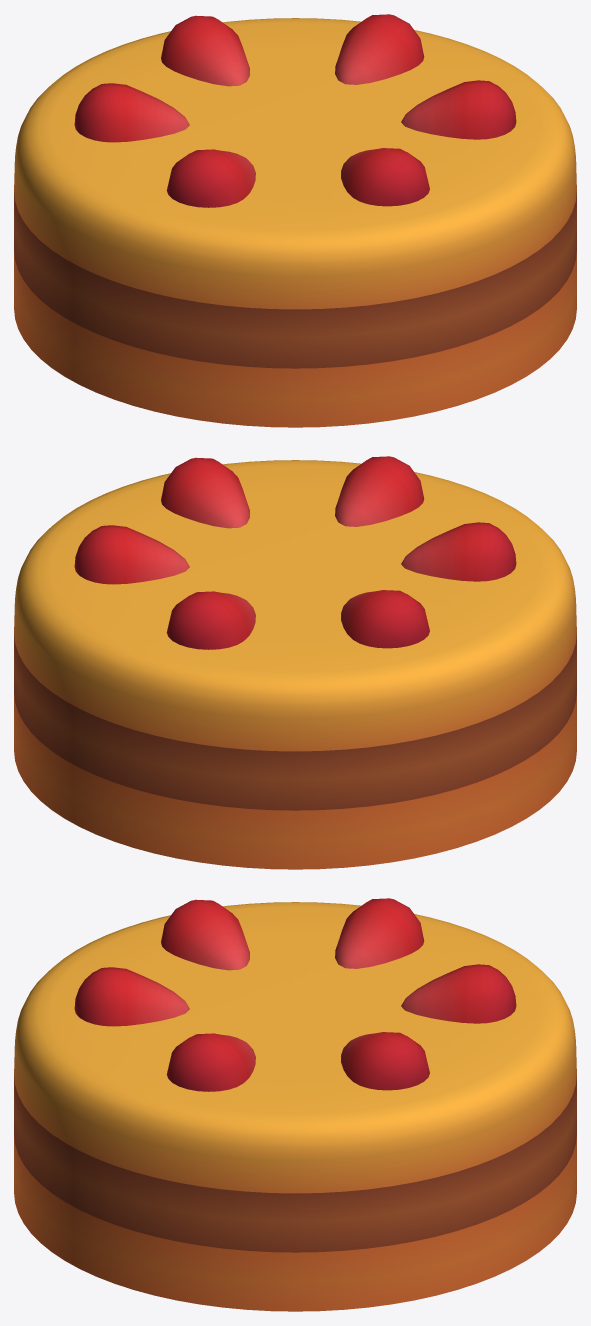
The model's file is cake08.FBX.
The picture shows the model from 3 angles, top to bottom: view 1: azimuth 30°, elevation 25°; view 2: azimuth 150°, elevation 25°; view 3: azimuth 270°, elevation 25°; orthographic projection.
Visible parts, largest first — view 1: cake08; view 2: cake08; view 3: cake08.
Boxes of the visible parts, x1,y1,x2,y2 form: cake08: (14, 14, 576, 427); cake08: (14, 456, 576, 869); cake08: (14, 898, 576, 1311).
Bounding box in the file's own units: 0.0193 × 0.00844 × 0.0193.
